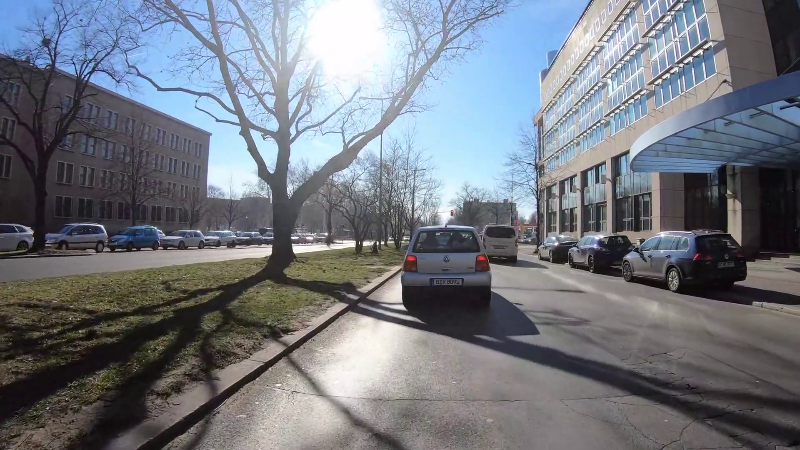Plate: (428, 277, 464, 287), (716, 260, 736, 268), (493, 244, 509, 250)
